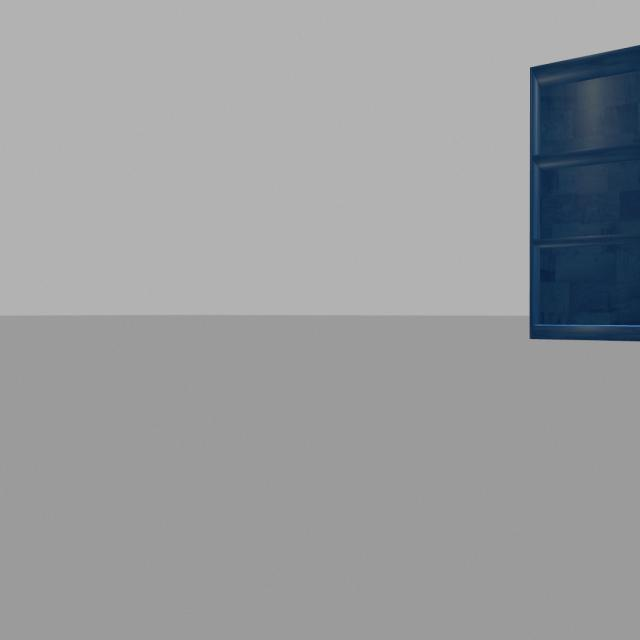shelf: (509, 34, 640, 368)
